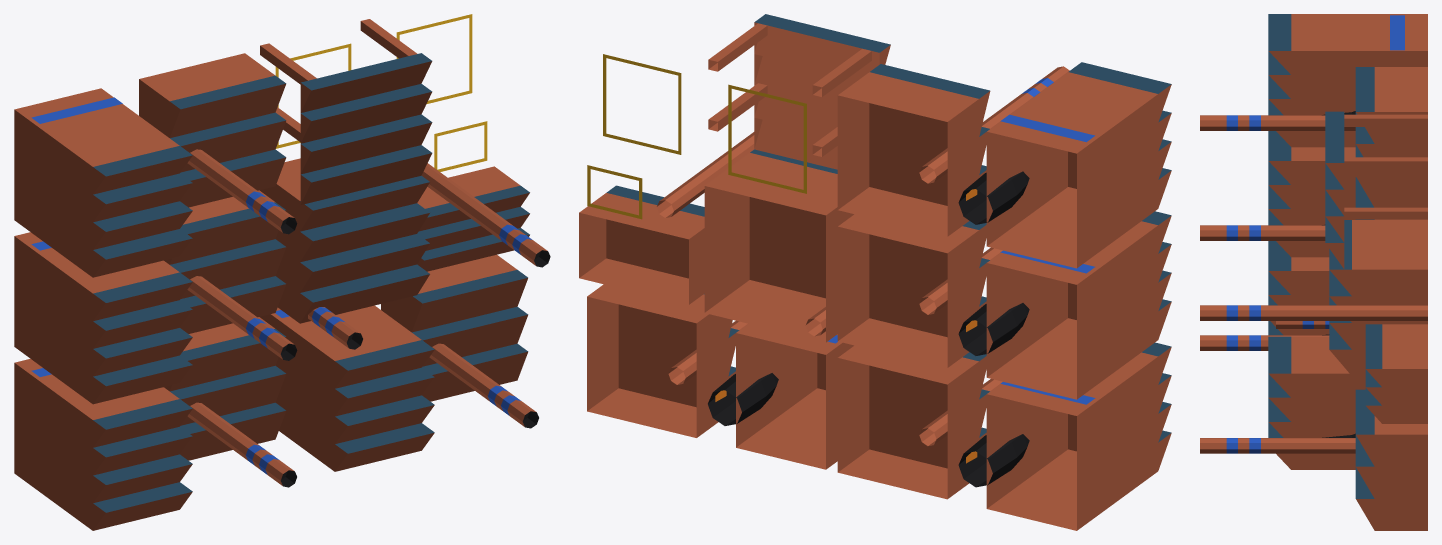
The model's file is complete.glb.
3 views of the same model, side by side, from view 1: azimuth 30°, elevation 25°; view 2: azimuth 150°, elevation 25°; view 3: azimuth 270°, elevation 25° (orthographic). The views are drawn at different scales.
Parts seen in each view (by area): view 1: t02_g56.003, t01_g56.003, t00_g56.003, t20_g56.003, t21_g52.003, t22_g53.003, t12_g57.003, t30_g57.003, t11_g57.003, t10_g57.003, t31_g54.003, t32_g55.003; view 2: t02_g56.003, t01_g56.003, t00_g56.003, t21_g52.003, t12_g57.003, t10_g57.003, t11_g57.003, t30_g57.003, t22_g53.003, t20_g56.003, t31_g54.003, t32_g55.003; view 3: t02_g56.003, t30_g57.003, t21_g52.003, t31_g54.003, t12_g57.003, t20_g56.003, t22_g53.003, t01_g56.003, t00_g56.003, t11_g57.003, t10_g57.003.
Part boxes in pixels (x1,y1,x2,y2): t02_g56.003: (14,88,192,277); t01_g56.003: (14,232,192,404); t00_g56.003: (14,359,192,530); t20_g56.003: (260,305,434,471); t21_g52.003: (260,158,429,349); t22_g53.003: (260,19,432,204); t12_g57.003: (139,53,297,234); t30_g57.003: (381,254,538,428); t11_g57.003: (164,190,297,360); t10_g57.003: (164,317,296,487); t31_g54.003: (417,121,550,271); t32_g55.003: (396,14,472,104); t02_g56.003: (958,62,1171,268); t01_g56.003: (958,211,1171,399); t00_g56.003: (958,342,1171,530); t21_g52.003: (704,149,853,342); t12_g57.003: (837,64,1069,236); t10_g57.003: (837,345,1002,499); t11_g57.003: (837,214,1002,367); t30_g57.003: (587,284,747,437); t22_g53.003: (708,14,890,193); t20_g56.003: (708,323,853,469); t31_g54.003: (579,132,754,304); t32_g55.003: (603,54,681,154); t02_g56.003: (1268,14,1427,147); t30_g57.003: (1200,389,1427,530); t21_g52.003: (1276,220,1427,376); t31_g54.003: (1200,305,1427,423); t12_g57.003: (1200,67,1427,207); t20_g56.003: (1268,336,1365,469); t22_g53.003: (1325,111,1427,268); t01_g56.003: (1268,131,1355,257); t00_g56.003: (1268,241,1329,335); t11_g57.003: (1200,177,1427,240); t10_g57.003: (1200,335,1329,350).
Bounding box in the file's own units: 63.5 × 46.5 × 30.
